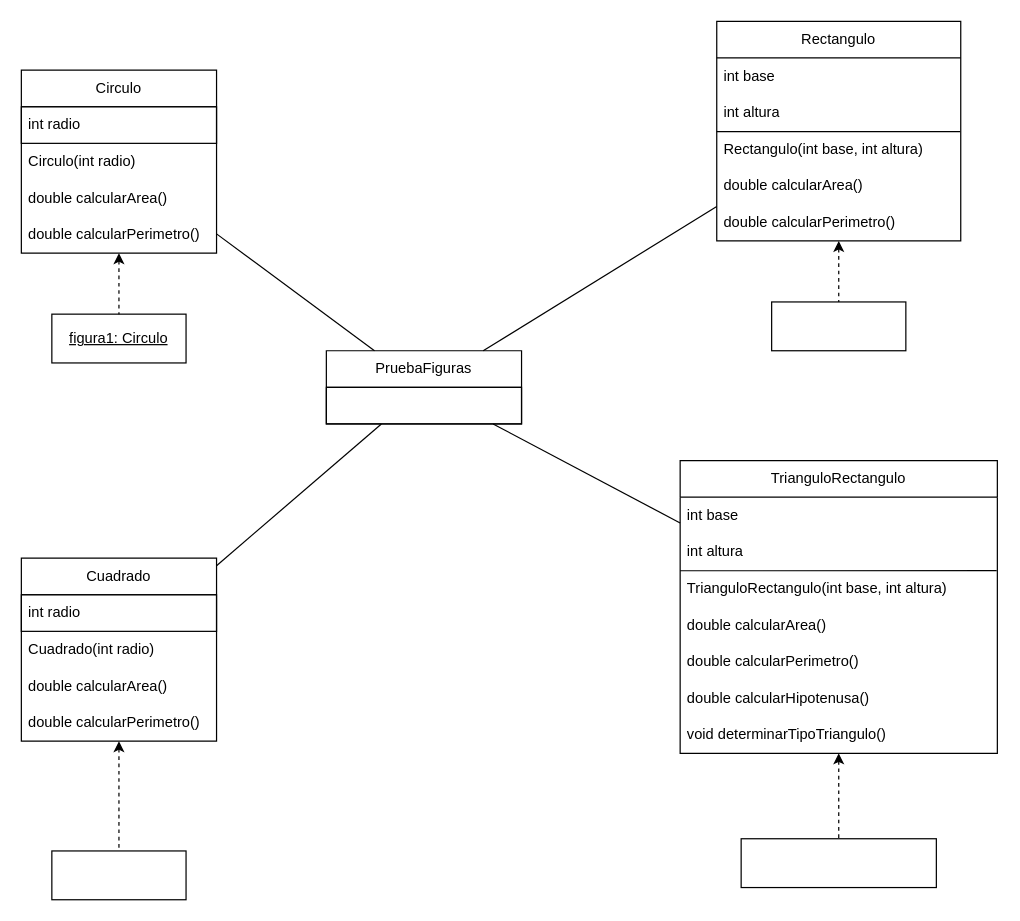
Some shapes in this 1020 by 921 pixel diagram are drawn without their labels. Each missing label, with the centre of its shape:
"+ main(String args[])" belongs at (423,405).
"figura2: Rectangulo" belongs at (838,326).
"figura3: Cuadrado" belongs at (118,875).
"figura4: TrianguloRectangulo" belongs at (838,863).
